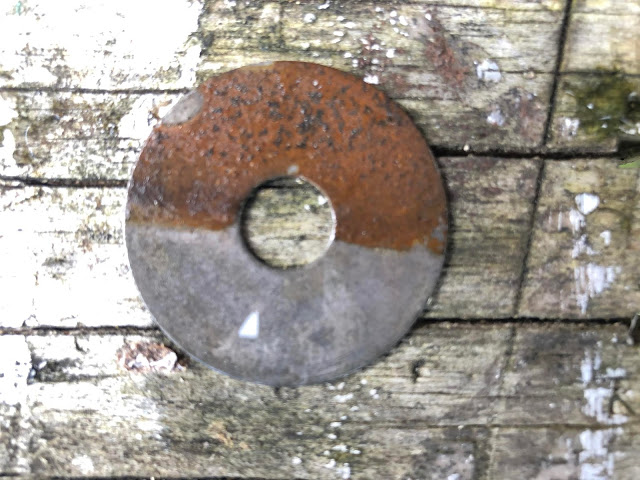rust: (300, 85, 436, 246), (137, 89, 268, 214)
